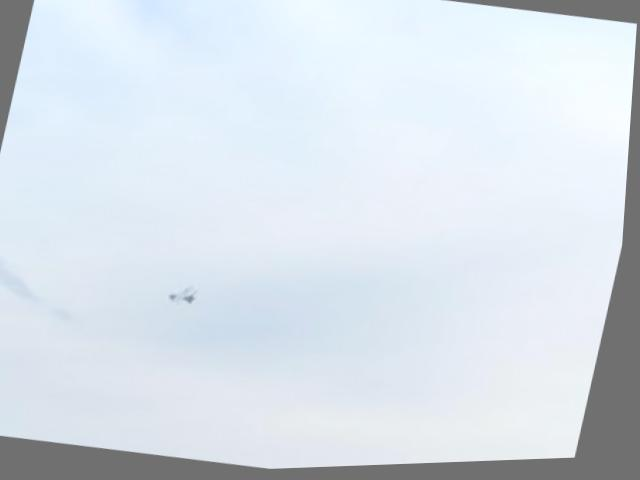uav: (170, 281, 206, 309)
